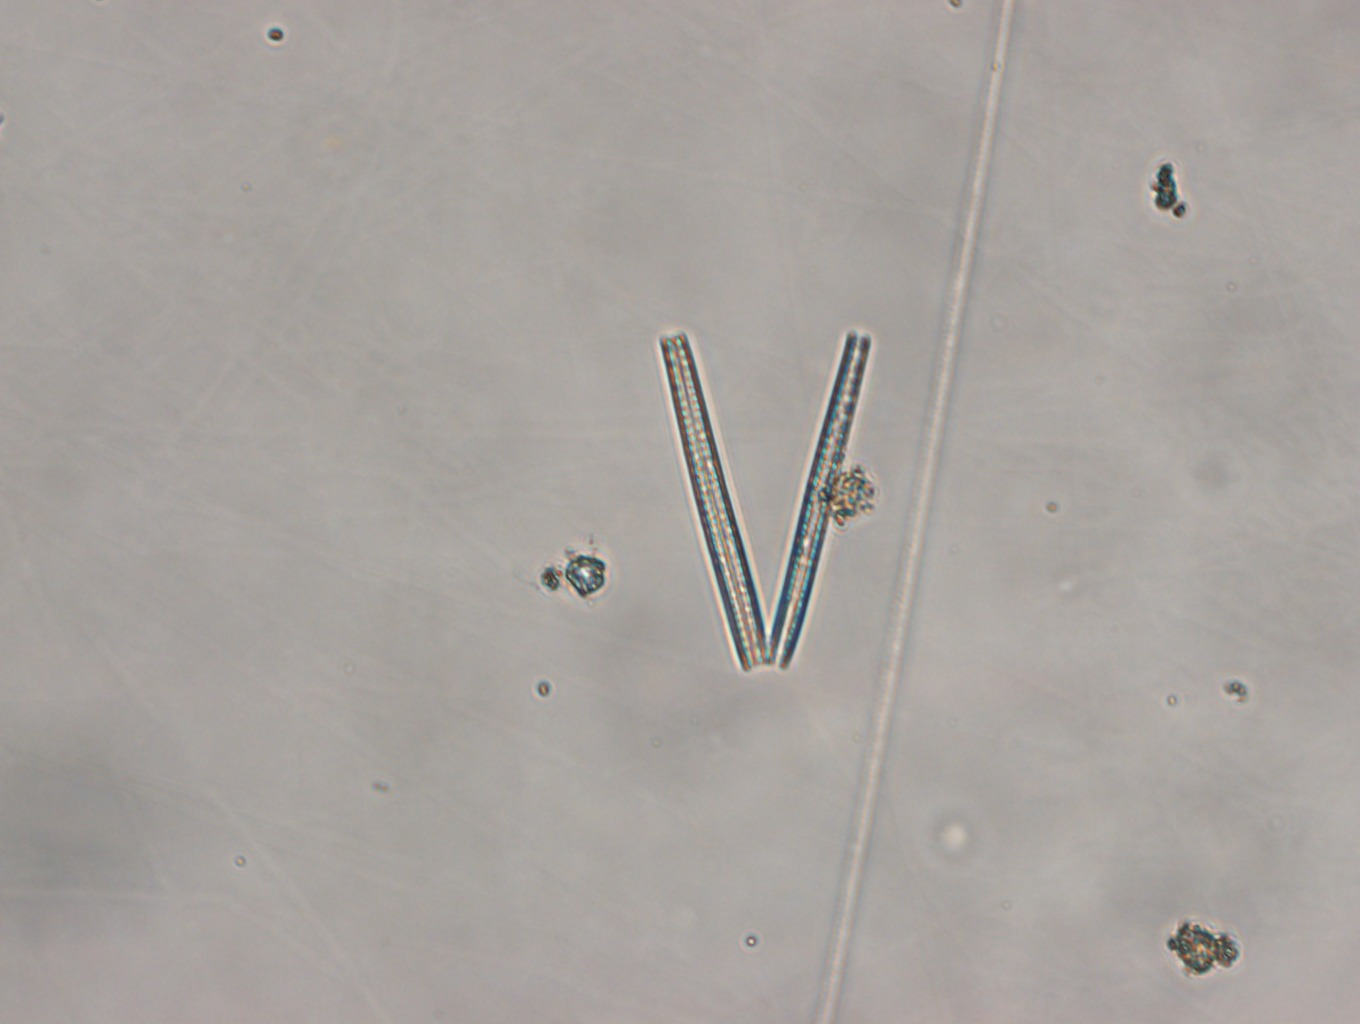thalassionema nitzschioides: (659, 328, 871, 672)
